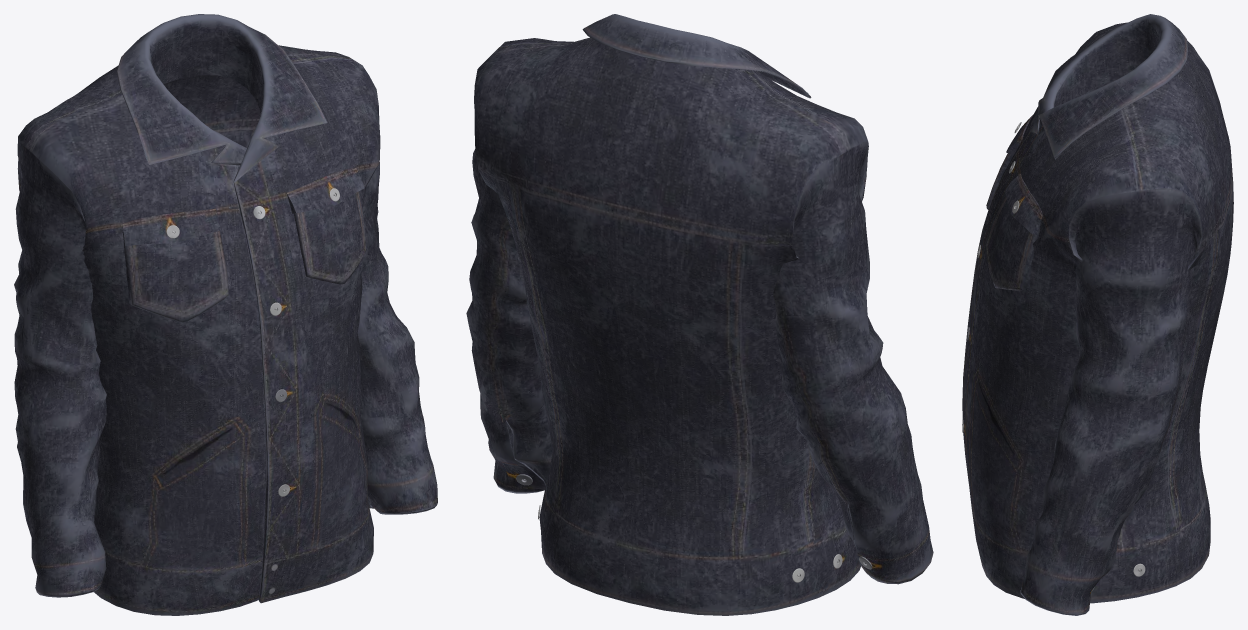
The model's file is modern_denim_jacket.glb.
3 views of the same model, side by side, from view 1: azimuth 30°, elevation 25°; view 2: azimuth 150°, elevation 25°; view 3: azimuth 270°, elevation 25° (orthographic). The views are drawn at different scales.
Visible parts, largest first — view 1: defaultMaterial; view 2: defaultMaterial; view 3: defaultMaterial.
Boxes of the visible parts, x1,y1,x2,y2 form: defaultMaterial: [14, 14, 437, 615]; defaultMaterial: [466, 14, 933, 615]; defaultMaterial: [962, 14, 1233, 615].
Size of the model in its own units: 0.5275 by 0.66 by 0.3172.
Materials: 1 (1 with a texture image).
